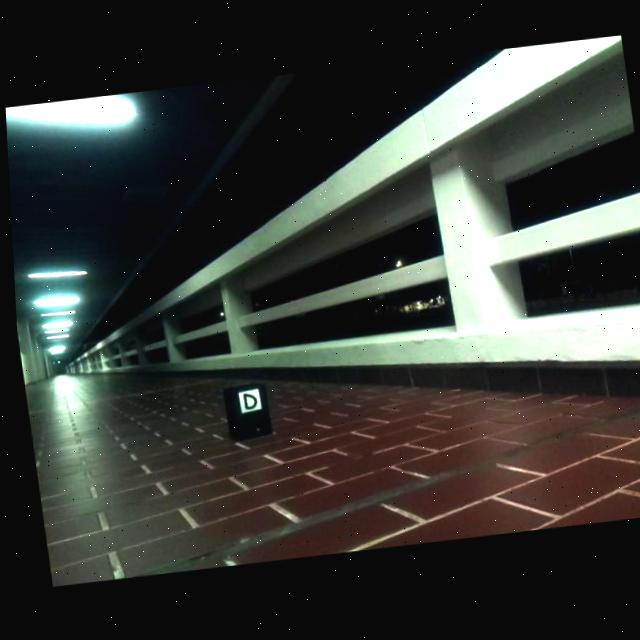D: (238, 394, 253, 412)
